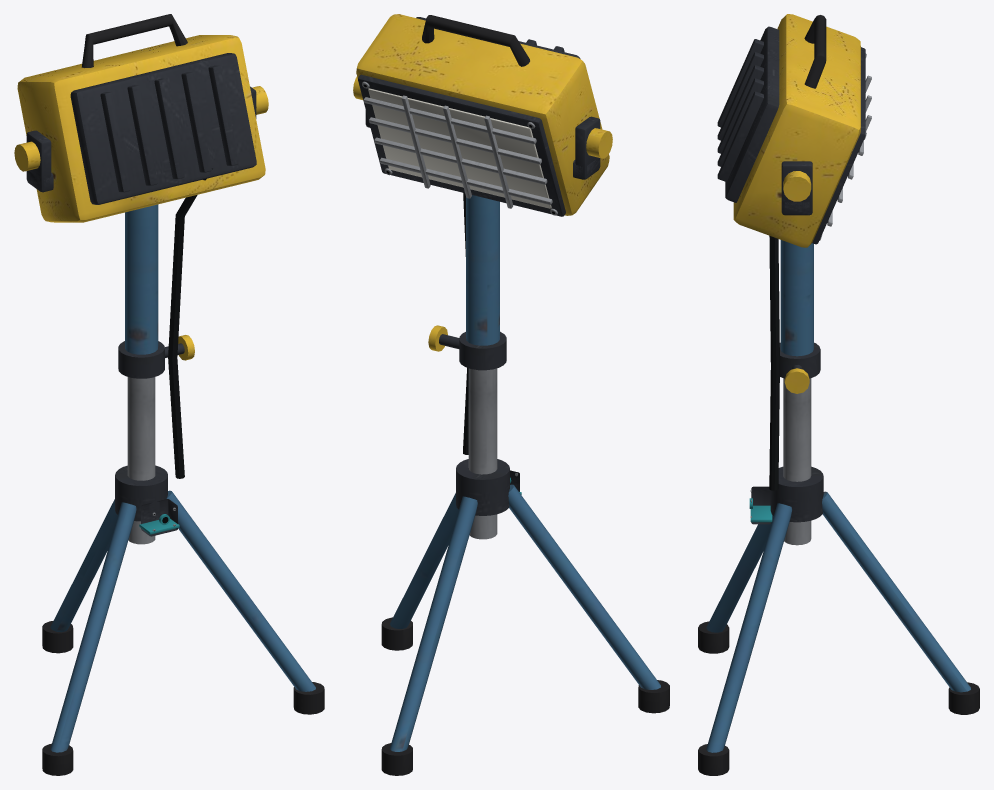
The model's file is construction_light.glb.
The picture shows the model from 3 angles, left to right: view 1: azimuth 30°, elevation 25°; view 2: azimuth 150°, elevation 25°; view 3: azimuth 270°, elevation 25°; orthographic projection. The views are drawn at different scales.
Parts seen in each view (by area): view 1: Body; view 2: Body; view 3: Body.
Boxes of the visible parts, left/top/right/bottom form: Body: left=14, top=14, right=324, bottom=775; Body: left=353, top=14, right=669, bottom=775; Body: left=698, top=14, right=979, bottom=775.
Size of the model in its own units: 0.4114 by 0.9559 by 0.3625.
Materials: 11 (5 with a texture image).
